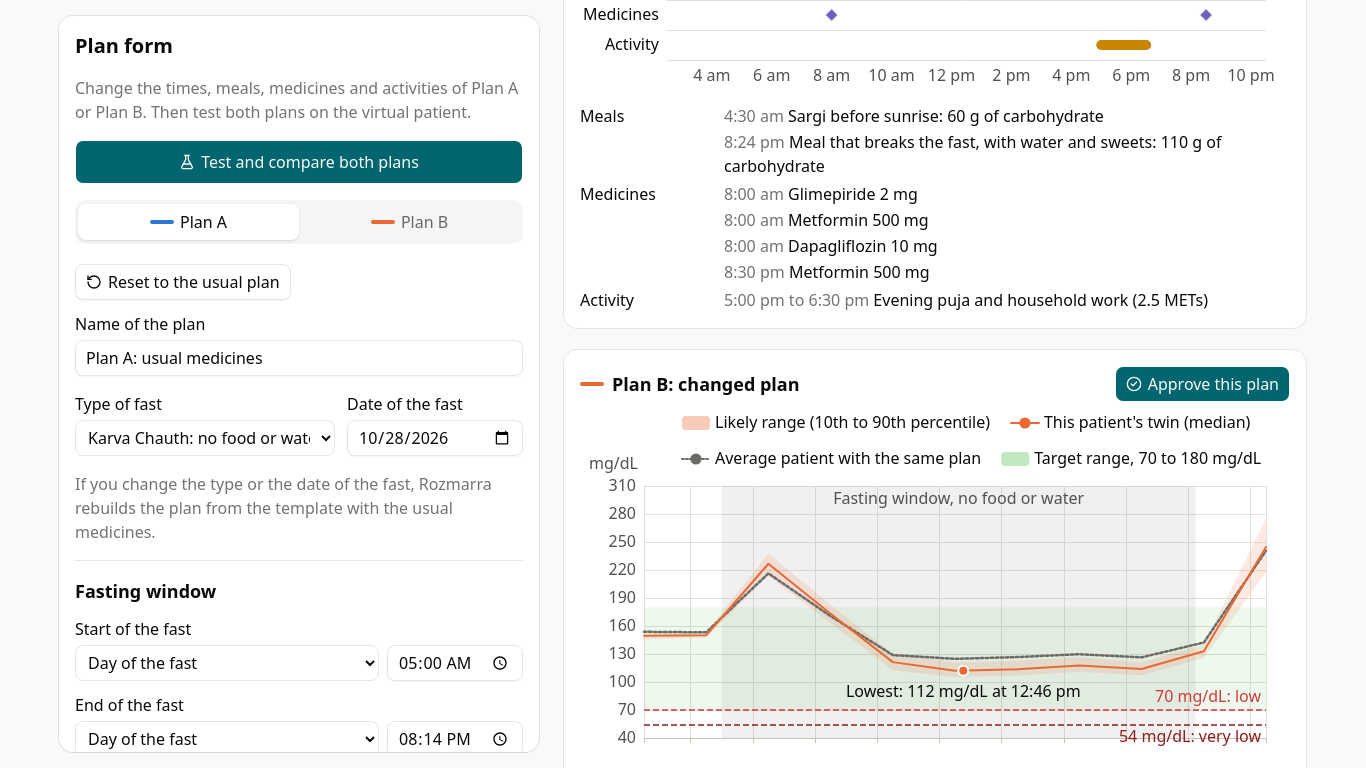
the doctor approves a tested plan with a name
(page scrolled)
Click the button named "Approve this plan (Plan B" at point(1202, 384), box x1=1115 y1=366 x2=1290 y2=402
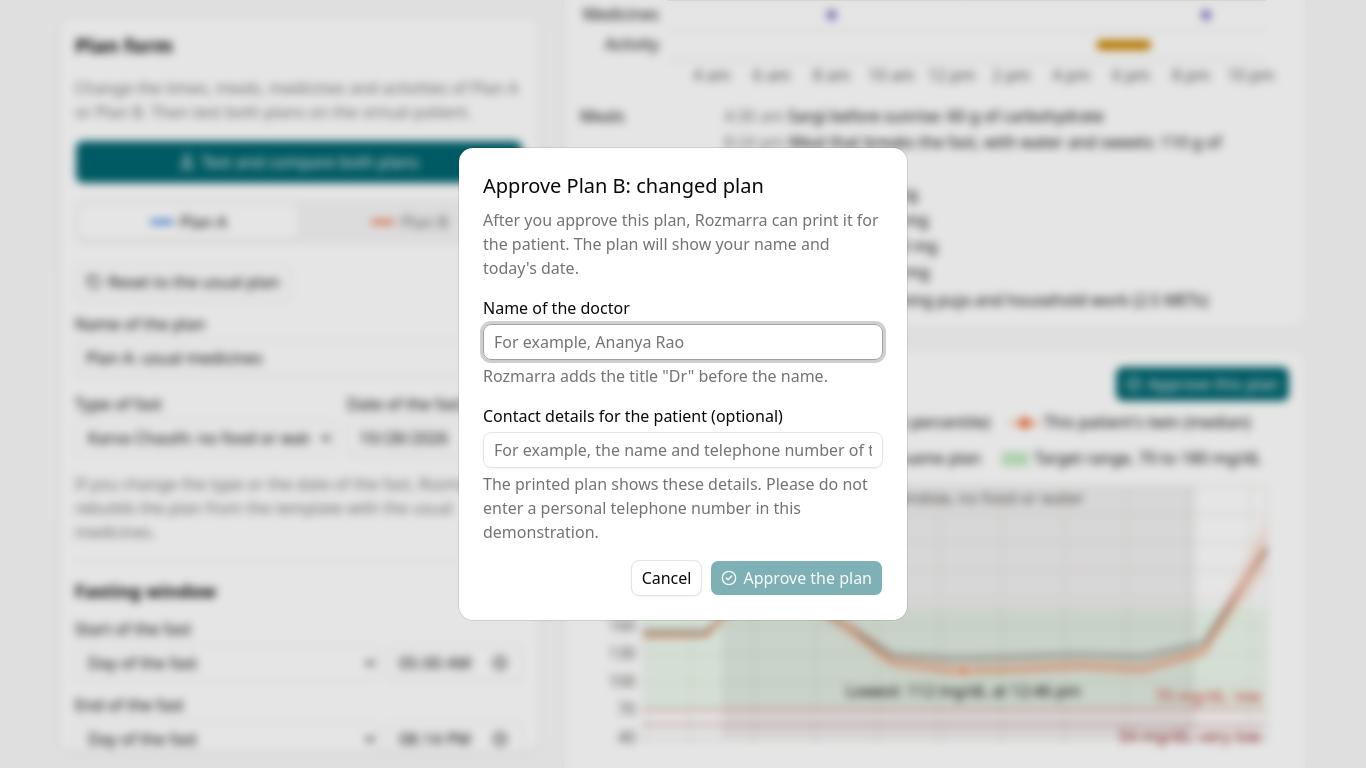
Now the button "Approve the plan" is disabled, box x1=710 y1=560 x2=883 y2=596
Type "Meera Iyer" into the field labelled "Name of the doctor" at point(683, 342), box x1=483 y1=324 x2=883 y2=360
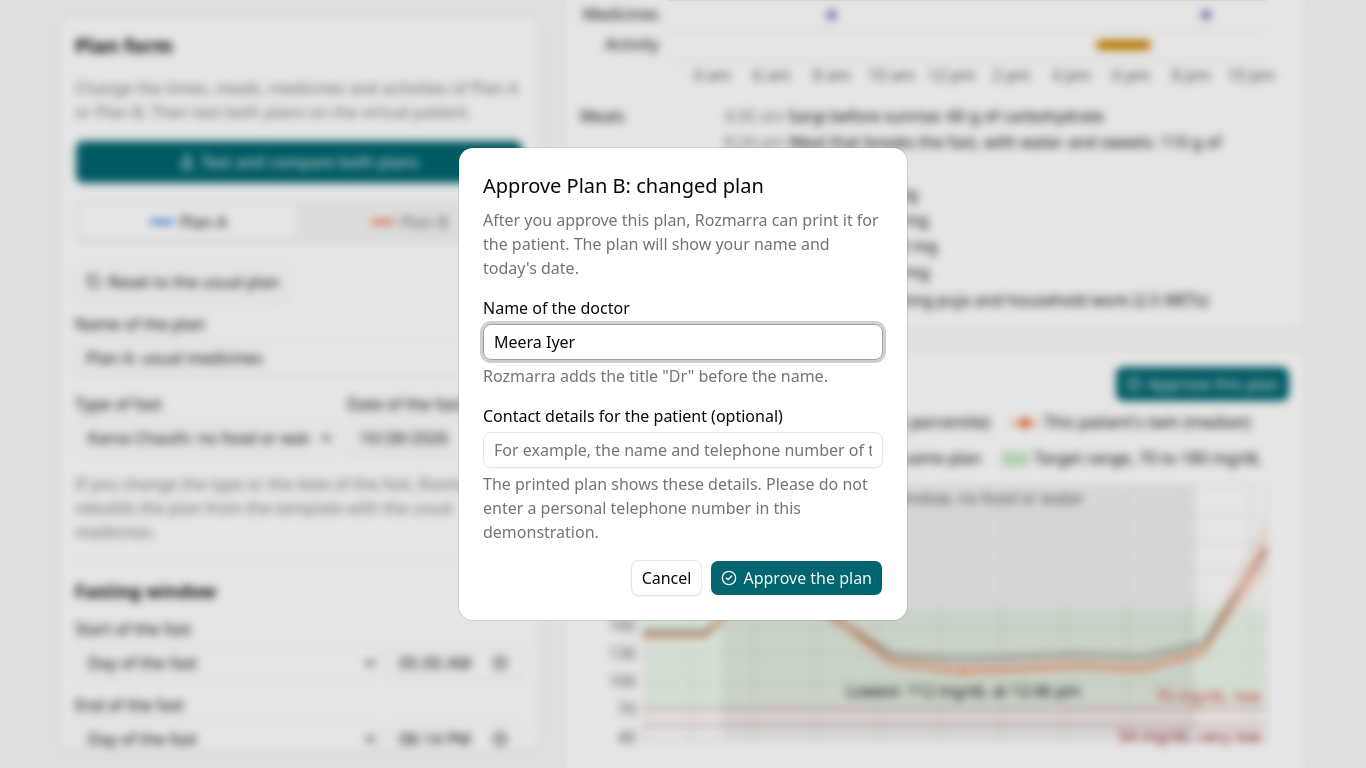
Click the button "Approve the plan" at point(797, 578), box x1=710 y1=560 x2=883 y2=596
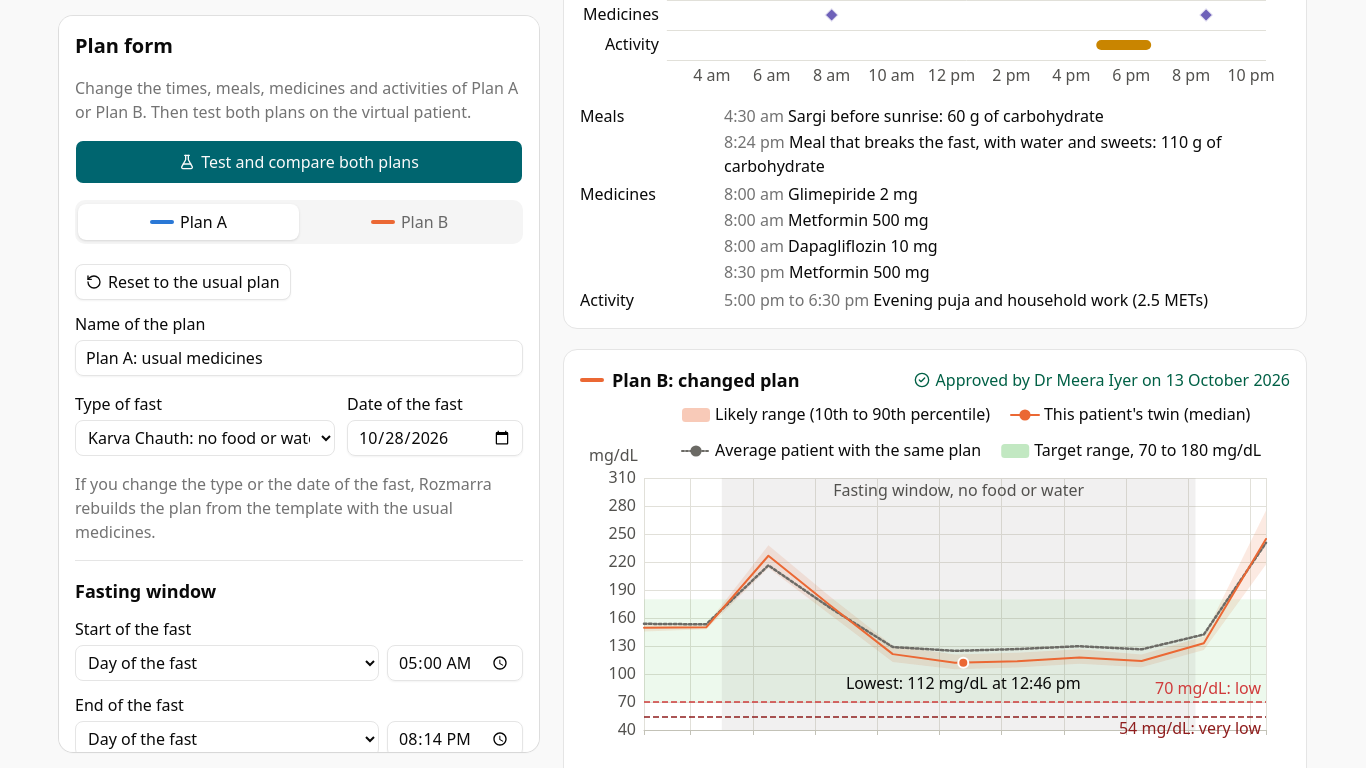
Now the text "Approved by Dr Meera Iyer on 13 October 2026" is shown, box x1=914 y1=368 x2=1290 y2=392
